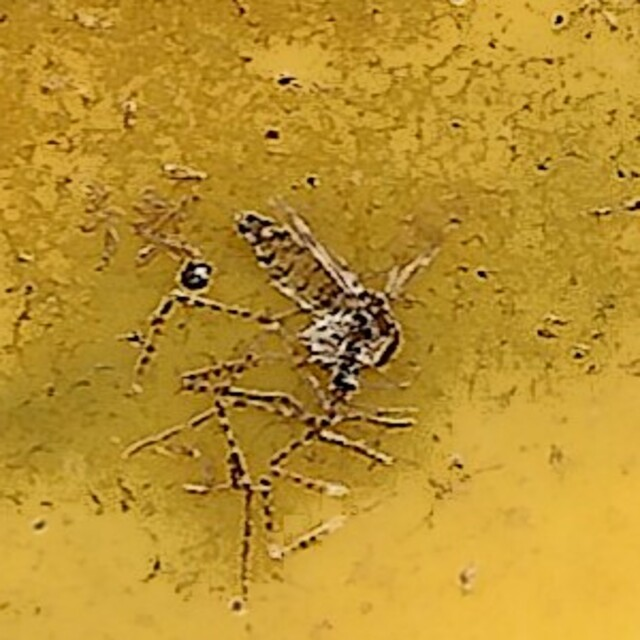Nematocera: (213, 195, 427, 445)
